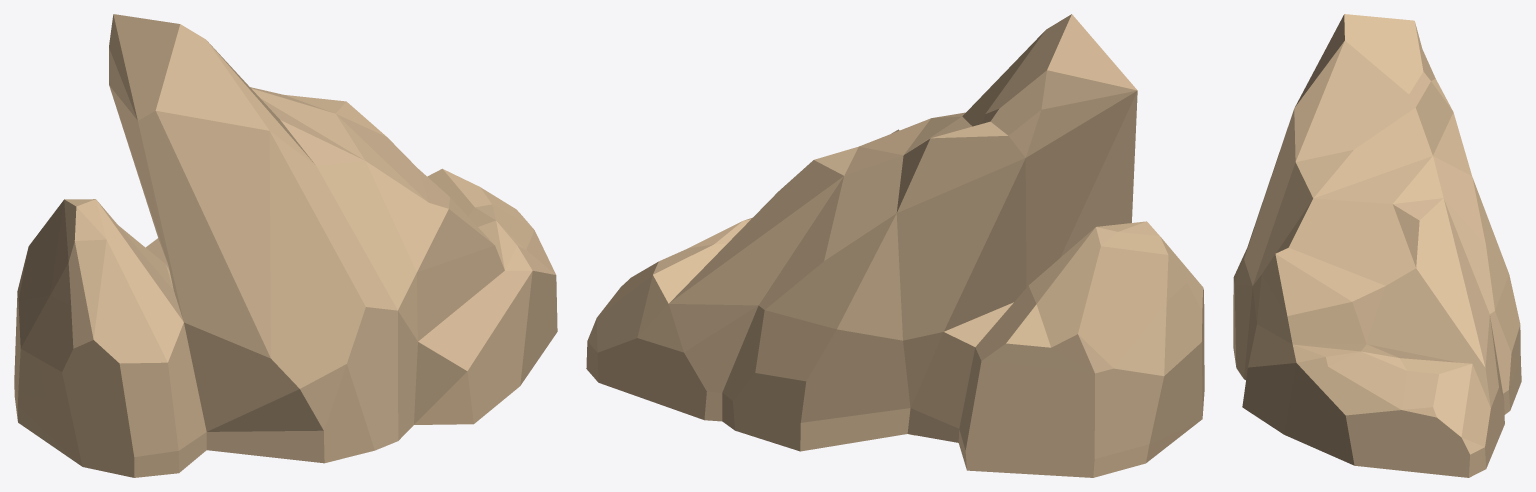
The model's file is rock-large.glb.
3 renders of one model, left to right at view 1: azimuth 30°, elevation 25°; view 2: azimuth 150°, elevation 25°; view 3: azimuth 270°, elevation 25°, orthographic. The views are drawn at different scales.
Visible parts, largest first — view 1: rock-large; view 2: rock-large; view 3: rock-large.
Part boxes in pixels (bbox=[...]): rock-large: bbox=[14, 14, 557, 477]; rock-large: bbox=[586, 14, 1204, 477]; rock-large: bbox=[1233, 14, 1521, 477].
Bounding box in the file's own units: 4.76 × 3.4 × 2.87.
